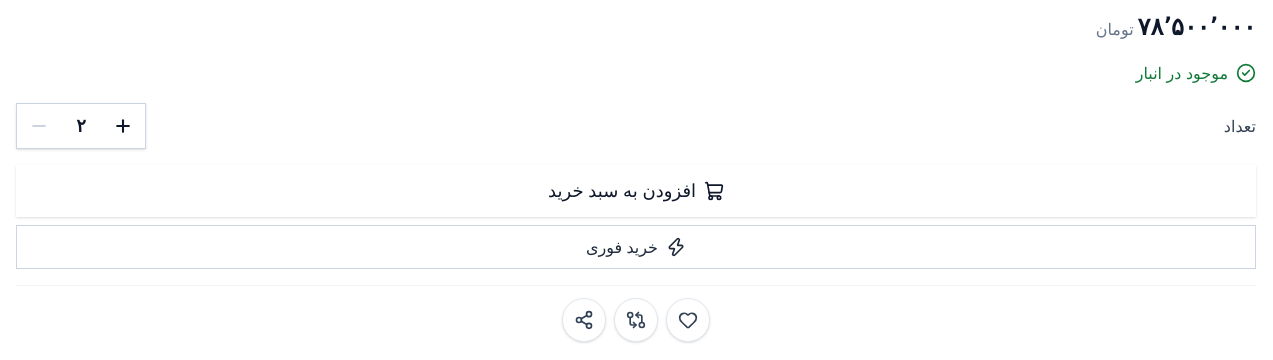
Test: BuyBox: quantity › starts at the minimum and stops at the maximum
Expected: the element named "تعداد" reads "۲", [76,115,86,136]
What coordinates should you click on to do the following:
click the button named "افزایش تعداد"
I would click on:
 (123, 126)
Its box is [101,104,145,148].
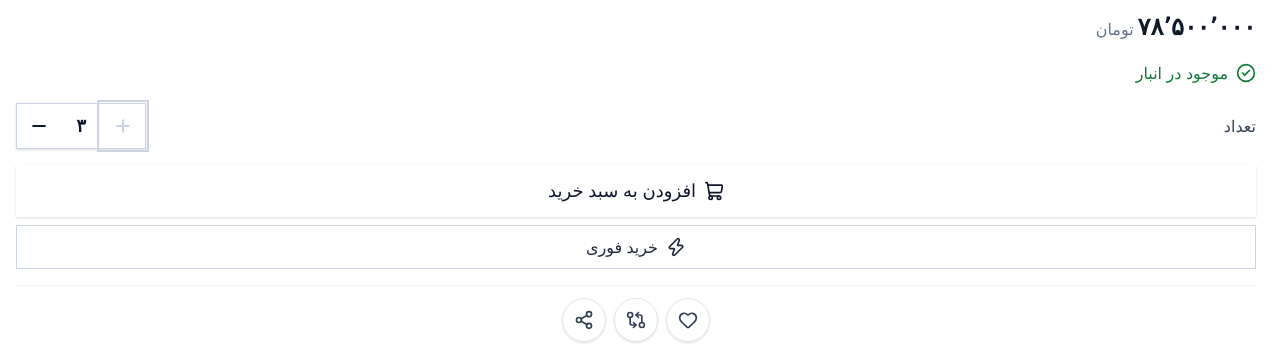
Now the element named "تعداد" reads "۳", box [76,115,86,136]
